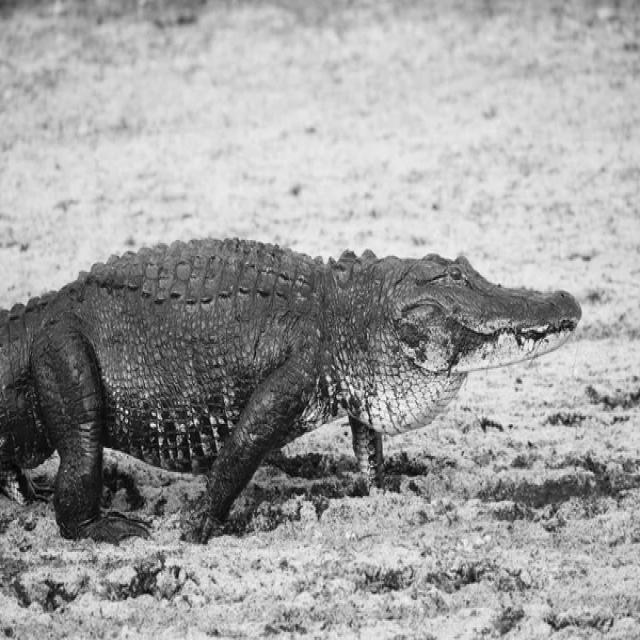Animal: (0, 238, 582, 543)
